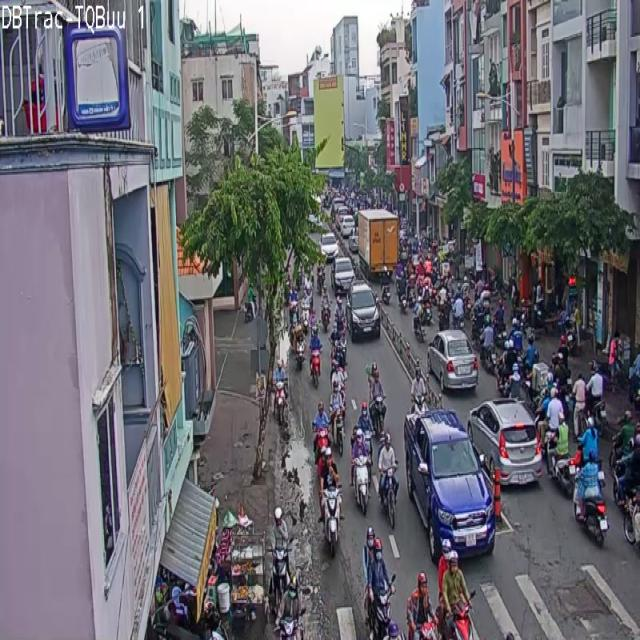car: (574, 421, 608, 545), (544, 391, 570, 491), (378, 435, 398, 526), (321, 475, 342, 556), (351, 431, 370, 513), (314, 428, 330, 461)
traffic-light: (406, 410, 495, 560), (468, 400, 542, 485), (428, 331, 478, 391), (346, 283, 379, 338)
